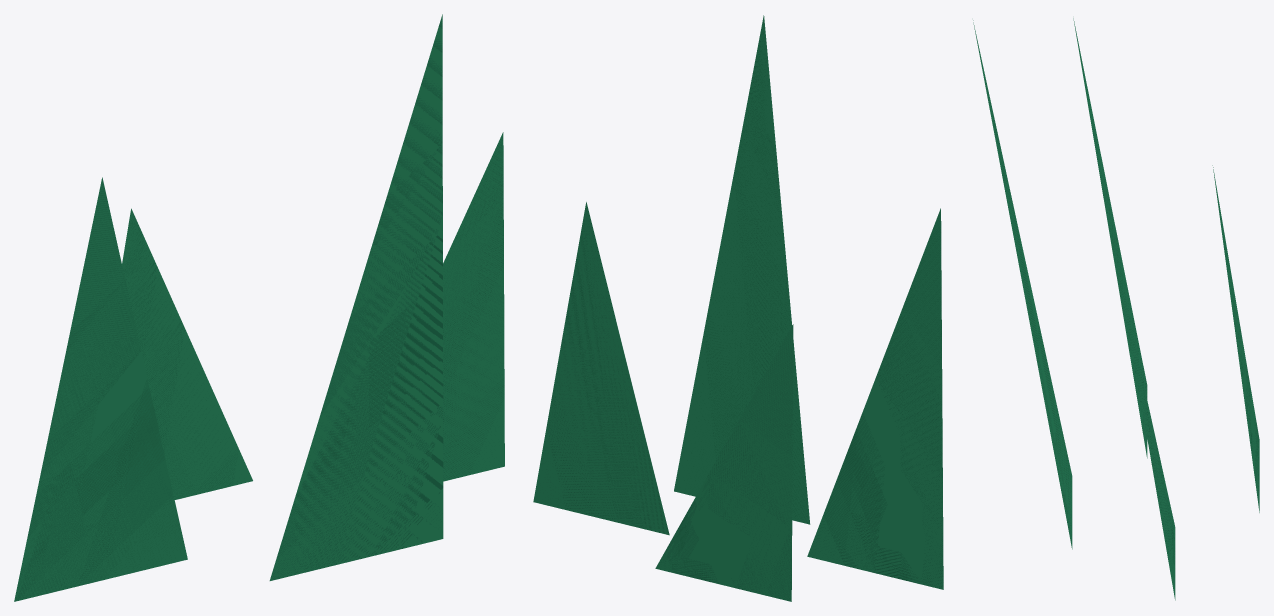
The model's file is grass_tuft.fbx.
The picture shows the model from 3 angles, left to right: view 1: azimuth 30°, elevation 25°; view 2: azimuth 150°, elevation 25°; view 3: azimuth 270°, elevation 25°; orthographic projection. The views are drawn at different scales.
Parts seen in each view (by area): view 1: grass_tuft; view 2: grass_tuft; view 3: grass_tuft.
Part boxes in pixels (x1=…): grass_tuft: x1=14, y1=14, x2=504, y2=601; grass_tuft: x1=533, y1=15, x2=943, y2=601; grass_tuft: x1=973, y1=18, x2=1259, y2=600.
Size of the model in its own units: 0.274 by 0.3 by 0.1534.
